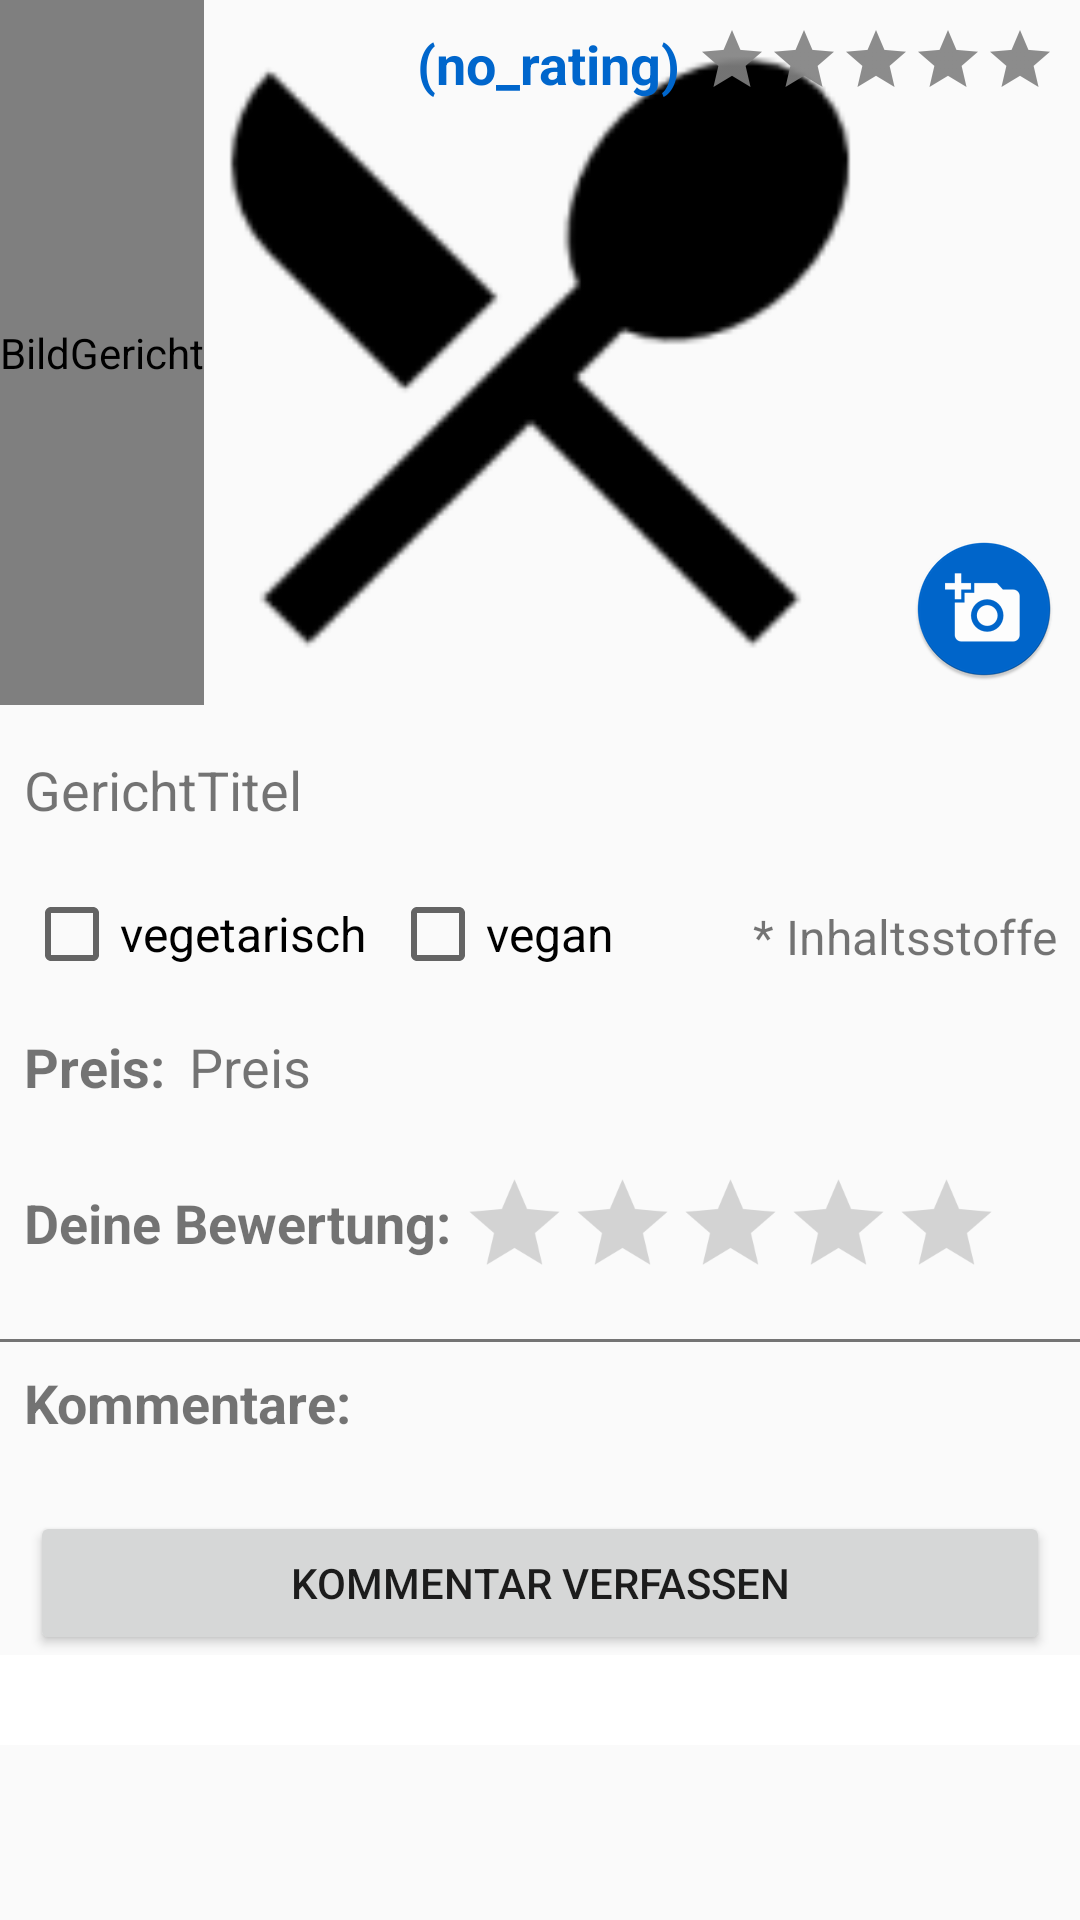

Point at icon controls on the screen. Image size 1080 x 1920, points as point (x, y).
camera: point (984, 610)
